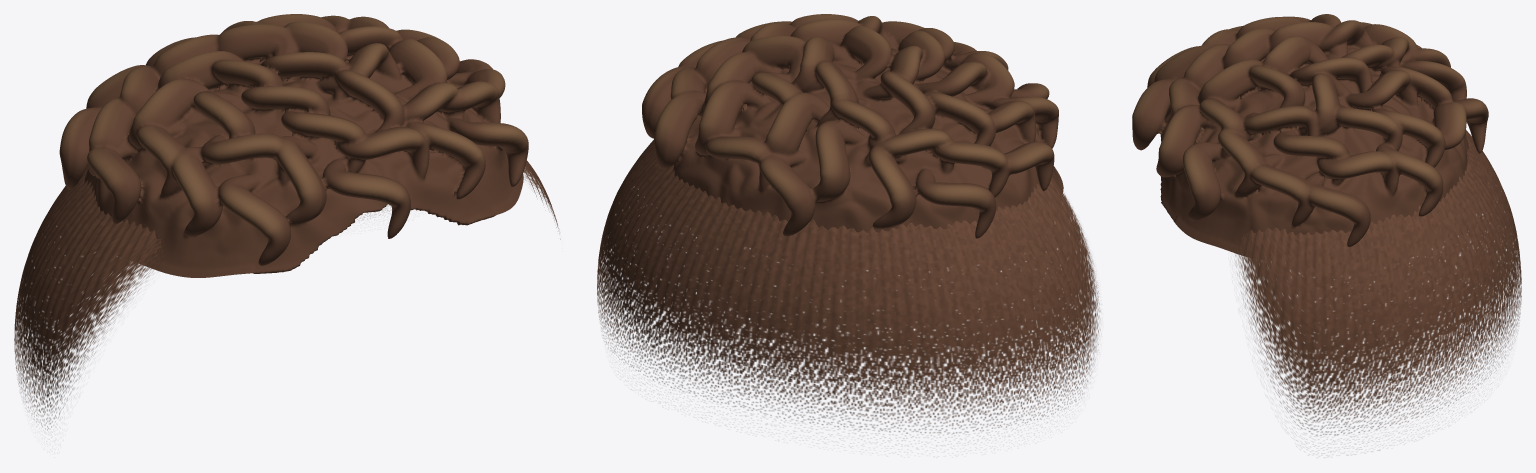
The model's file is Masculine-curly-top-hair256-ombre.glb.
3 views of the same model, side by side, from view 1: azimuth 30°, elevation 25°; view 2: azimuth 150°, elevation 25°; view 3: azimuth 270°, elevation 25° (orthographic). The views are drawn at different scales.
Visible parts, largest first — view 1: 226 hair / Hair252 / sculpted curl groups, 226 hair / Hair256 / selected B sides; view 2: 226 hair / Hair256 / selected B sides, 226 hair / Hair252 / sculpted curl groups; view 3: 226 hair / Hair252 / sculpted curl groups, 226 hair / Hair256 / selected B sides.
Part boxes in pixels (left/top/right/bottom): 226 hair / Hair252 / sculpted curl groups: left=59, top=14, right=528, bottom=277; 226 hair / Hair256 / selected B sides: left=14, top=160, right=560, bottom=430; 226 hair / Hair256 / selected B sides: left=597, top=140, right=1100, bottom=442; 226 hair / Hair252 / sculpted curl groups: left=642, top=14, right=1063, bottom=238; 226 hair / Hair252 / sculpted curl groups: left=1132, top=14, right=1488, bottom=256; 226 hair / Hair256 / selected B sides: left=1232, top=130, right=1521, bottom=453.
Bounding box in the file's own units: 0.972 × 0.665 × 0.7498.
2 materials, 1 textured.
